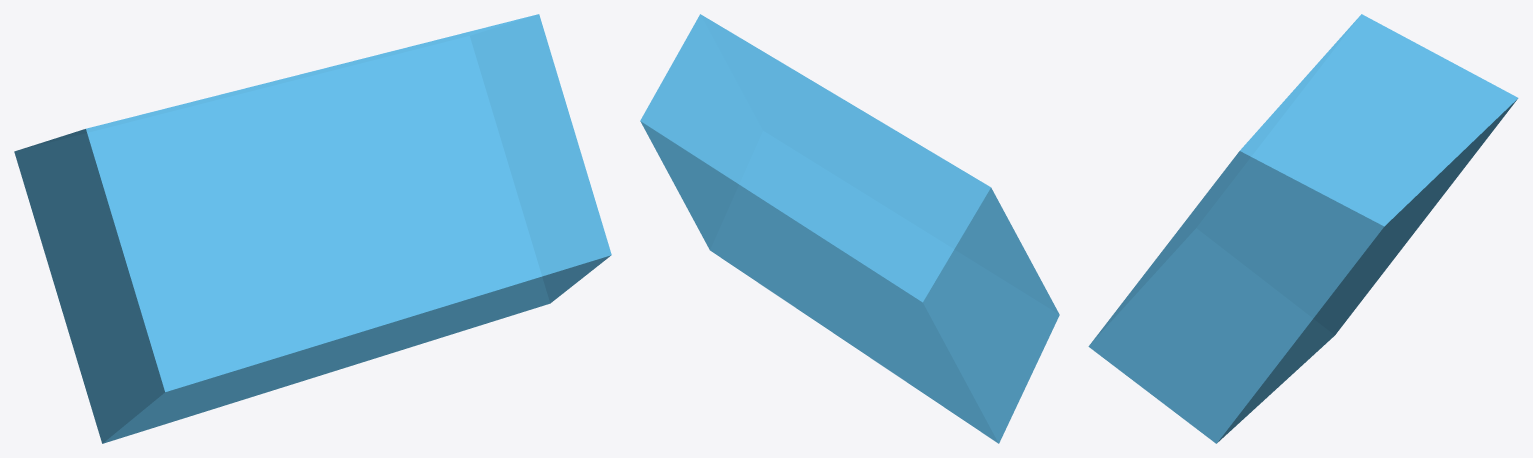
File: Event_420107950_HErechit_6.fbx
3 renders of one model, left to right at view 1: azimuth 30°, elevation 25°; view 2: azimuth 150°, elevation 25°; view 3: azimuth 270°, elevation 25°, orthographic. The views are drawn at different scales.
Visible parts, largest first — view 1: Model; view 2: Model; view 3: Model.
Part boxes in pixels (left/top/right/bottom): Model: left=14, top=14, right=611, bottom=443; Model: left=640, top=14, right=1059, bottom=443; Model: left=1088, top=14, right=1518, bottom=443.
Size of the model in its own units: 0.9466 by 0.8434 by 0.8576.
